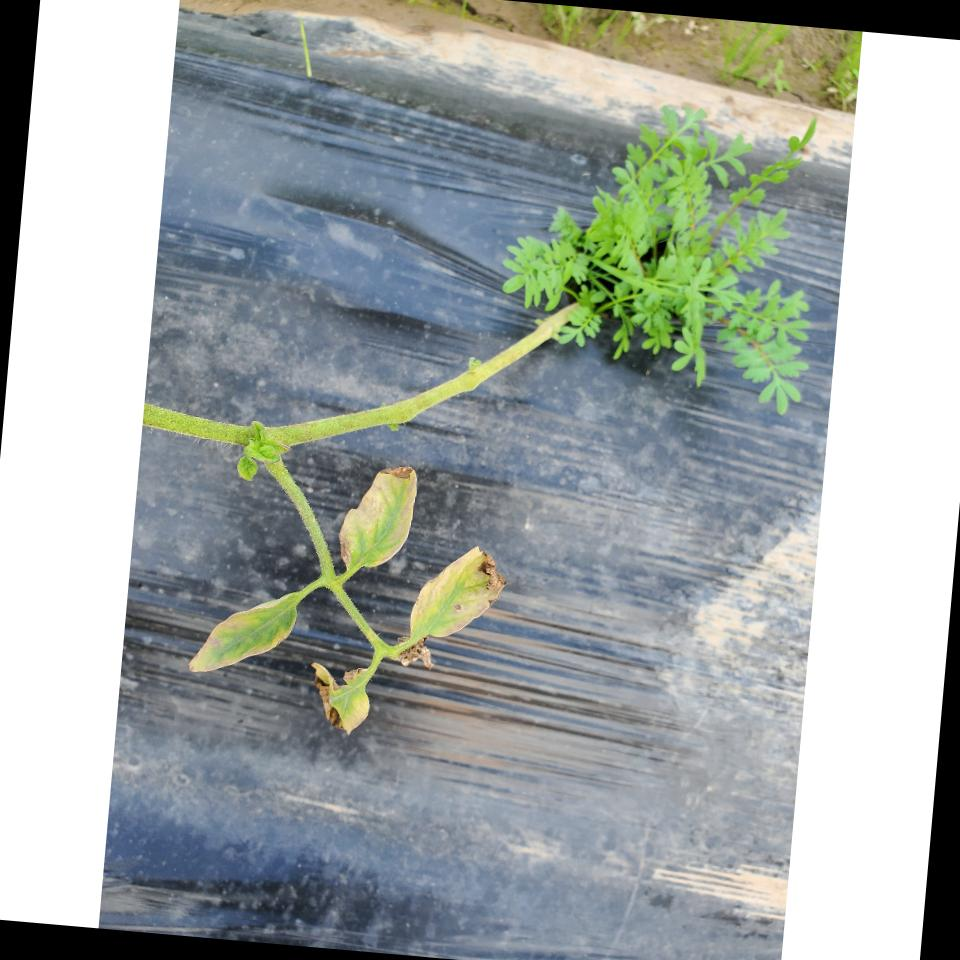tomato_yellow_leaf_curl_virus: (402, 539, 522, 659), (334, 462, 434, 599), (190, 598, 317, 676), (312, 640, 392, 762)
